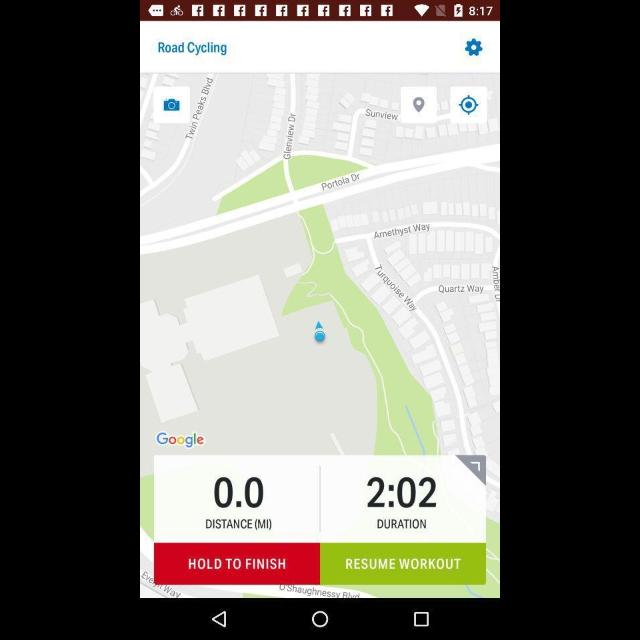icon: (465, 38, 483, 56), (311, 610, 329, 628), (459, 96, 477, 114), (211, 610, 227, 628), (413, 612, 429, 628)
map: (141, 75, 499, 598)
panel: (140, 598, 500, 640)
text: (364, 474, 442, 510), (212, 478, 268, 508), (346, 558, 462, 572), (188, 558, 288, 572), (158, 41, 226, 54), (204, 518, 274, 530), (377, 519, 428, 531)
textbutton: (154, 544, 320, 584), (320, 544, 486, 584)
toolbar: (141, 22, 499, 72)
uppertaskbar: (140, 0, 500, 20)
